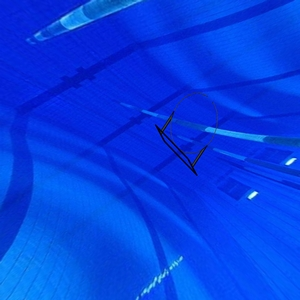circle: (155, 91, 223, 177)
